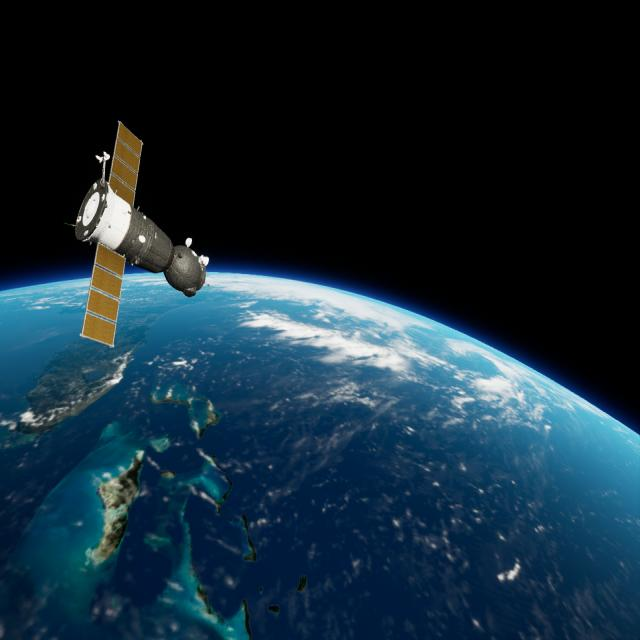Satellites revolving around earth: (1, 269, 639, 638), (72, 118, 210, 350)
